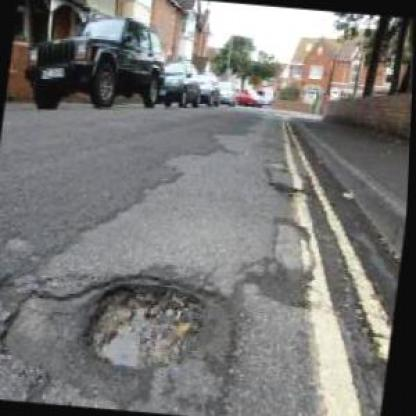pothole: (81, 272, 219, 378)
